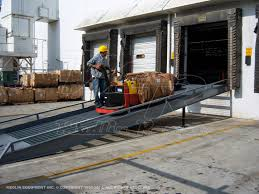Pallet Jack: (94, 64, 182, 115)
Yard Ramp: (1, 80, 229, 165)
